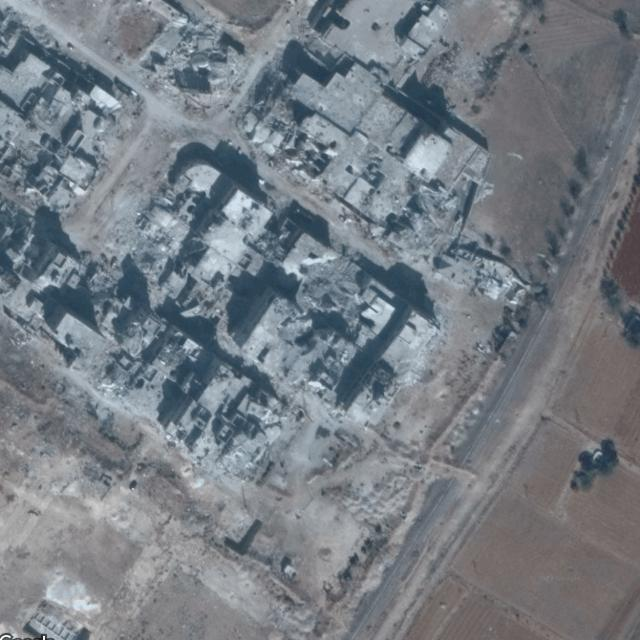damaged_building: (38, 143, 447, 490), (228, 83, 531, 315), (0, 7, 144, 221), (129, 11, 258, 127)
